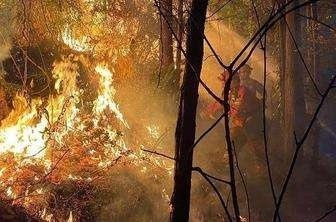fire: (0, 18, 148, 187)
